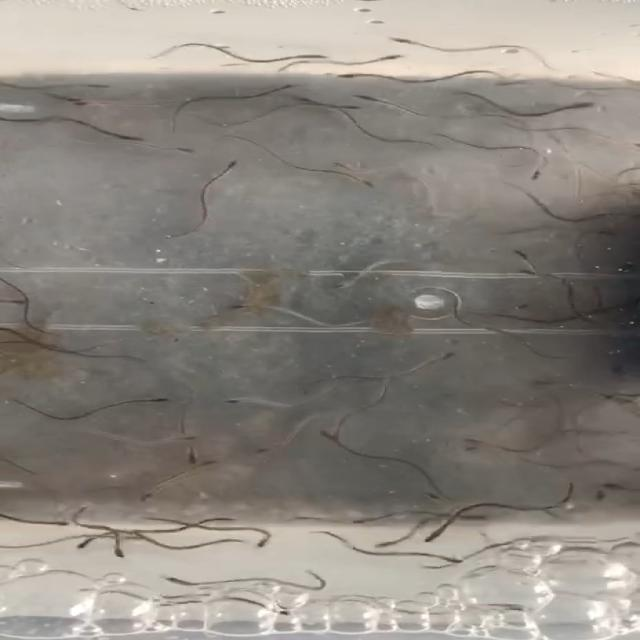active_glass_eel: (131, 482, 173, 505), (368, 534, 413, 554), (103, 533, 137, 556), (554, 99, 596, 117), (108, 127, 148, 145), (349, 90, 392, 106), (418, 524, 456, 542), (316, 424, 342, 450), (378, 32, 426, 46), (288, 48, 331, 63), (157, 574, 206, 587), (353, 514, 395, 529), (222, 394, 273, 406), (211, 157, 249, 173), (318, 70, 378, 80), (152, 433, 202, 445), (506, 249, 541, 266), (339, 175, 384, 188), (332, 156, 368, 172), (181, 448, 211, 467), (454, 436, 501, 448), (157, 143, 196, 157), (369, 50, 407, 64), (248, 528, 276, 547), (141, 390, 176, 405), (331, 424, 360, 442), (247, 443, 281, 458), (523, 158, 546, 180), (67, 98, 112, 109), (74, 81, 118, 92), (279, 95, 319, 107), (513, 267, 547, 281), (75, 536, 109, 550), (327, 277, 358, 292), (430, 350, 460, 364), (498, 78, 532, 90), (330, 102, 362, 114), (0, 294, 32, 306), (67, 504, 96, 517), (225, 303, 265, 312), (267, 82, 298, 92), (463, 442, 485, 456)
